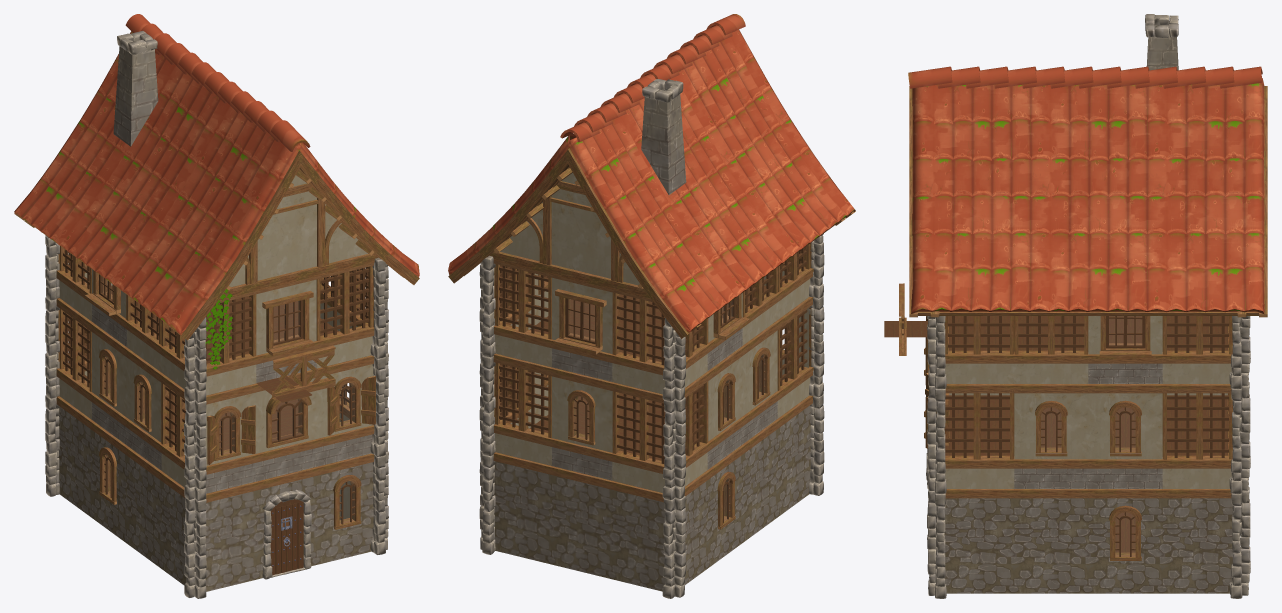
File: house_narrow_three.gltf
3 views of the same model, side by side, from view 1: azimuth 30°, elevation 25°; view 2: azimuth 150°, elevation 25°; view 3: azimuth 270°, elevation 25° (orthographic). The views are drawn at different scales.
Parts seen in each view (by area): view 1: Roof_RoundTiles_6x8, Roof_Front_Brick6, Wall_UnevenBrick_Straight, Wall_UnevenBrick_Window_Thin_Round, Wall_Plaster_WoodGrid.007, Prop_Chimney, Wall_Plaster_WoodGrid.006, Wall_UnevenBrick_Straight.005, Wall_Plaster_Window_Thin_Round.001, Wall_UnevenBrick_Straight.004, Wall_Plaster_Window_Wide_Round, Wall_Plaster_WoodGrid.002 (+40 smaller); view 2: Roof_RoundTiles_6x8, Roof_Front_Brick6.001, Wall_UnevenBrick_Straight.002, Wall_UnevenBrick_Straight.001, Wall_UnevenBrick_Straight.003, Wall_Plaster_WoodGrid, Wall_Plaster_Window_Thin_Round.002, Wall_Plaster_WoodGrid.001, Wall_Plaster_WoodGrid.008, Wall_Plaster_WoodGrid.009, Prop_Chimney, Wall_UnevenBrick_Straight.005 (+30 smaller); view 3: Roof_RoundTiles_6x8, Wall_UnevenBrick_Straight.008, Wall_UnevenBrick_Straight.009, Wall_UnevenBrick_Straight.007, Wall_Plaster_Window_Thin_Round.005, Wall_Plaster_Window_Thin_Round.006, Wall_UnevenBrick_Window_Thin_Round.002, Wall_Plaster_WoodGrid.004, Wall_Plaster_WoodGrid.005, Wall_Plaster_WoodGrid.014, Wall_Plaster_WoodGrid.015, Wall_Plaster_WoodGrid.013 (+22 smaller).
Boxes of the visible parts, x1,y1,x2,y2 form: Roof_RoundTiles_6x8: (14,14,419,340); Roof_Front_Brick6: (219,170,378,300); Wall_UnevenBrick_Straight: (205,481,257,591); Wall_UnevenBrick_Window_Thin_Round: (316,453,374,564); Wall_Plaster_WoodGrid.007: (316,262,374,368); Prop_Chimney: (113,31,158,146); Wall_Plaster_WoodGrid.006: (205,291,257,395); Wall_UnevenBrick_Straight.005: (124,445,161,568); Wall_Plaster_Window_Thin_Round.001: (316,355,374,466); Wall_UnevenBrick_Straight.004: (56,396,91,517); Wall_Plaster_Window_Wide_Round: (256,370,317,481); Wall_Plaster_WoodGrid.002: (56,298,91,419); Roof_RoundTiles_6x8: (448,14,855,338); Roof_Front_Brick6.001: (490,168,650,298); Wall_UnevenBrick_Straight.002: (550,466,612,579); Wall_UnevenBrick_Straight.001: (493,452,551,564); Wall_UnevenBrick_Straight.003: (611,481,665,591); Wall_Plaster_WoodGrid: (493,353,551,465); Wall_Plaster_Window_Thin_Round.002: (550,367,612,480); Wall_Plaster_WoodGrid.001: (611,382,665,492); Wall_Plaster_WoodGrid.008: (493,260,551,367); Wall_Plaster_WoodGrid.009: (611,289,665,394); Prop_Chimney: (641,79,686,194); Wall_UnevenBrick_Straight.005: (742,419,780,542); Roof_RoundTiles_6x8: (908,66,1267,317); Wall_UnevenBrick_Straight.008: (1014,489,1088,593); Wall_UnevenBrick_Straight.009: (1162,489,1232,593); Wall_UnevenBrick_Straight.007: (944,489,1014,593); Wall_Plaster_Window_Thin_Round.005: (1014,384,1088,488); Wall_Plaster_Window_Thin_Round.006: (1088,384,1162,488); Wall_UnevenBrick_Window_Thin_Round.002: (1088,489,1162,593); Wall_Plaster_WoodGrid.004: (944,384,1014,488); Wall_Plaster_WoodGrid.005: (1162,384,1232,488); Wall_Plaster_WoodGrid.014: (1014,316,1088,383); Wall_Plaster_WoodGrid.015: (1162,316,1232,383); Wall_Plaster_WoodGrid.013: (945,316,1014,383).
Size of what is drawn, in the model's own units: 8.25 by 14.95 by 10.33.
10 materials, 9 textured.
